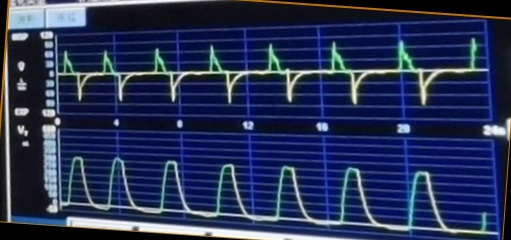Accumulation Flow: (59, 37, 480, 110)
Volume: (62, 152, 488, 232)
